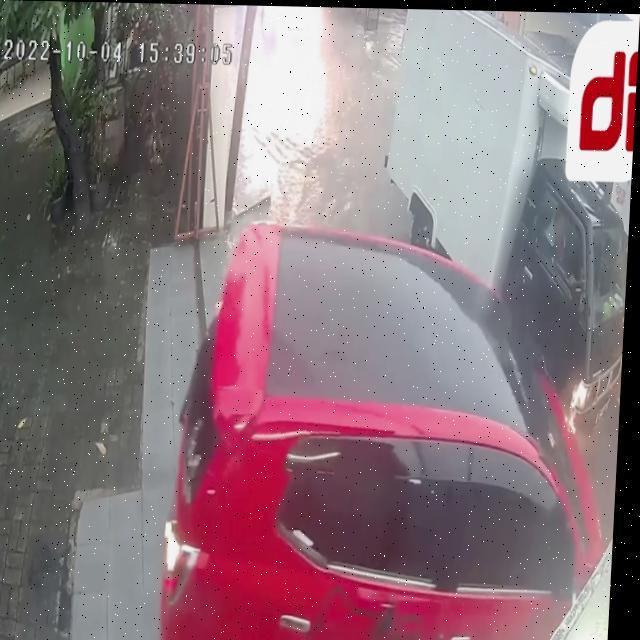multiple_accident: (249, 180, 621, 587)
